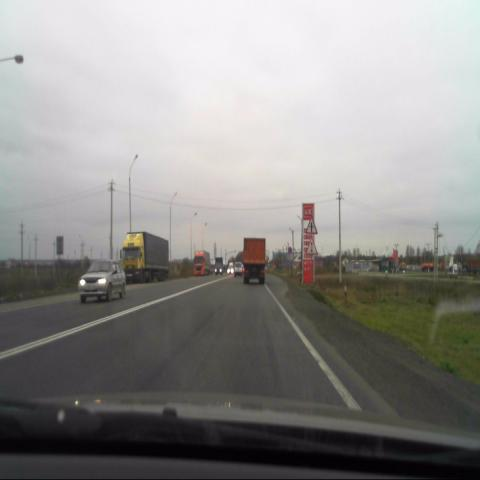1_8: (305, 237, 318, 255)
